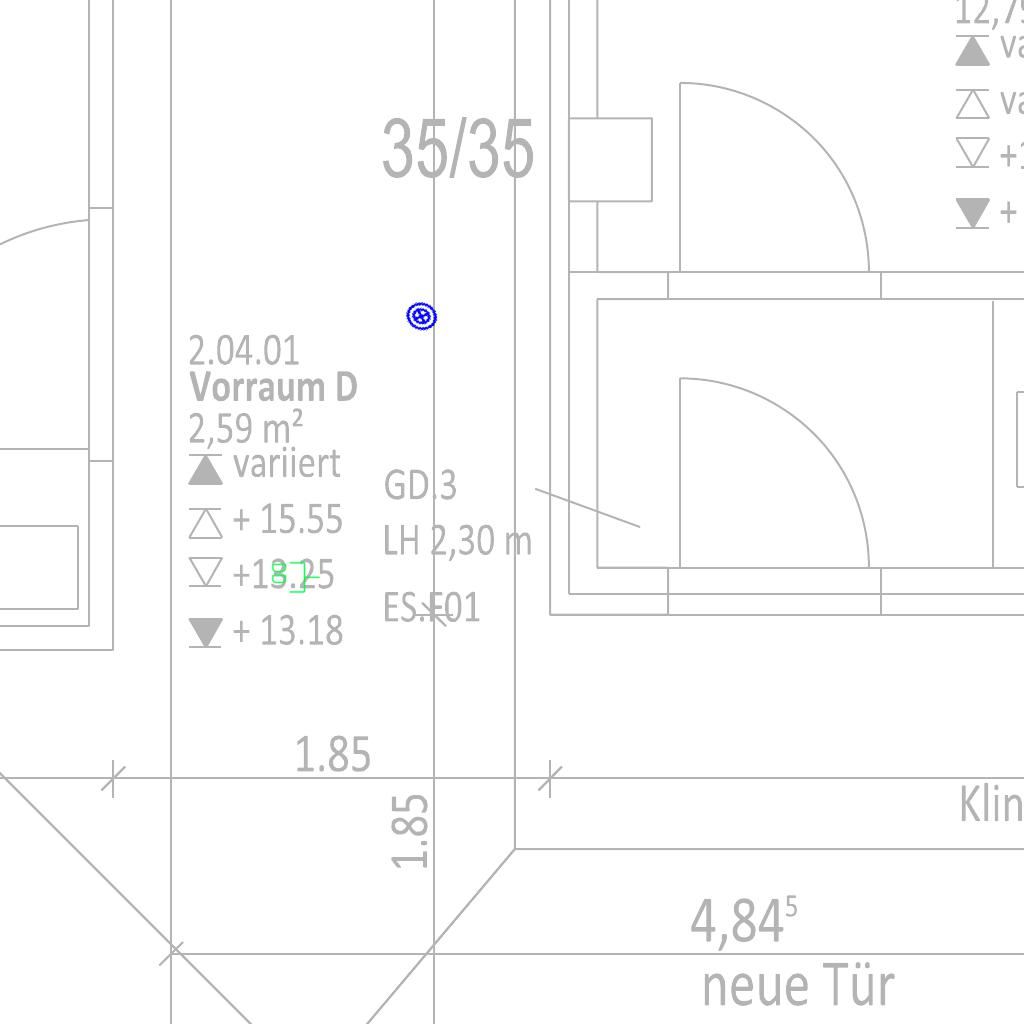Datenanschluss_zweifach: (270, 560, 321, 594)
Taster_beleuchtet: (400, 295, 443, 338)
